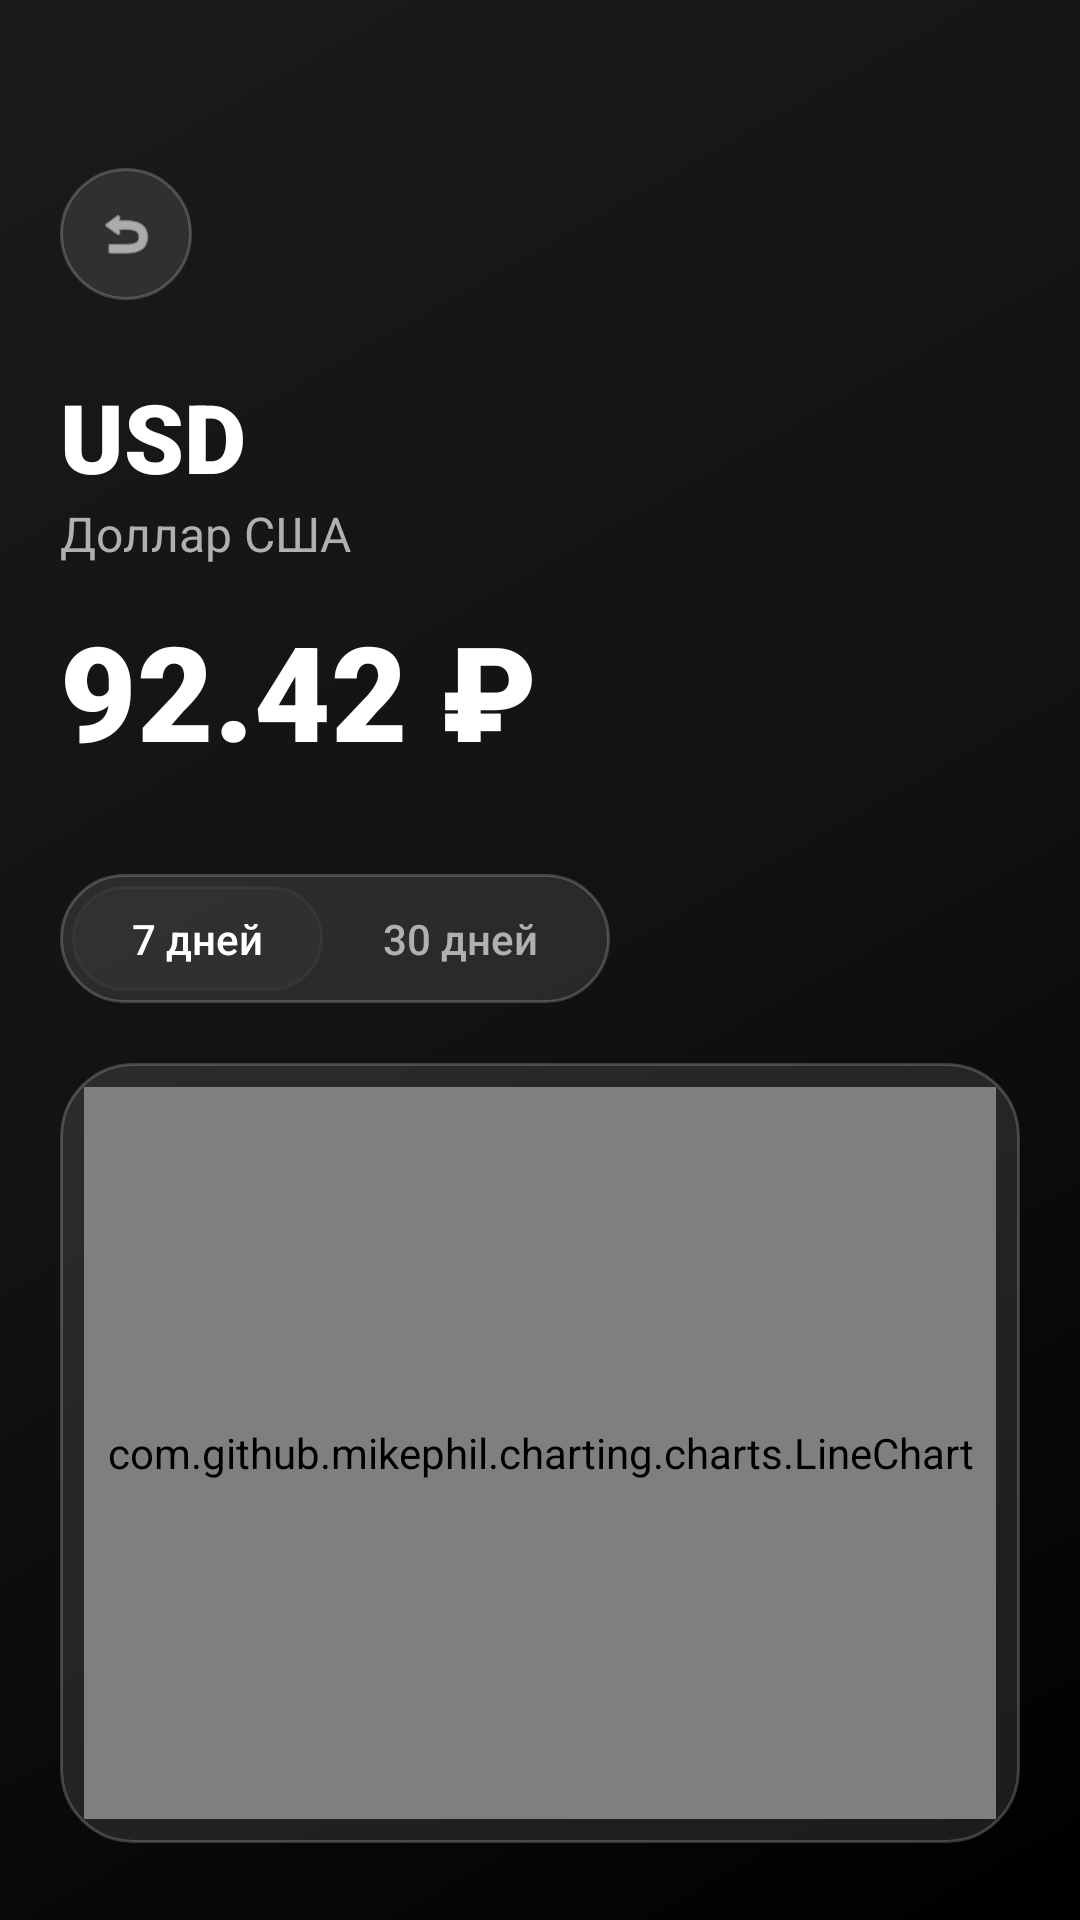

Screen size 1080 × 1920. Icon name, then its center in pixels as (x,y):
revert: (126,234)
